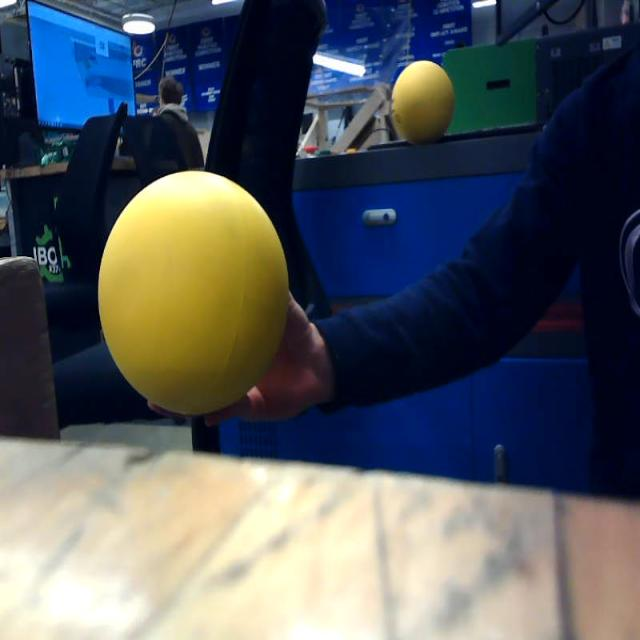Fuel: (98, 171, 290, 416), (392, 60, 454, 144)
